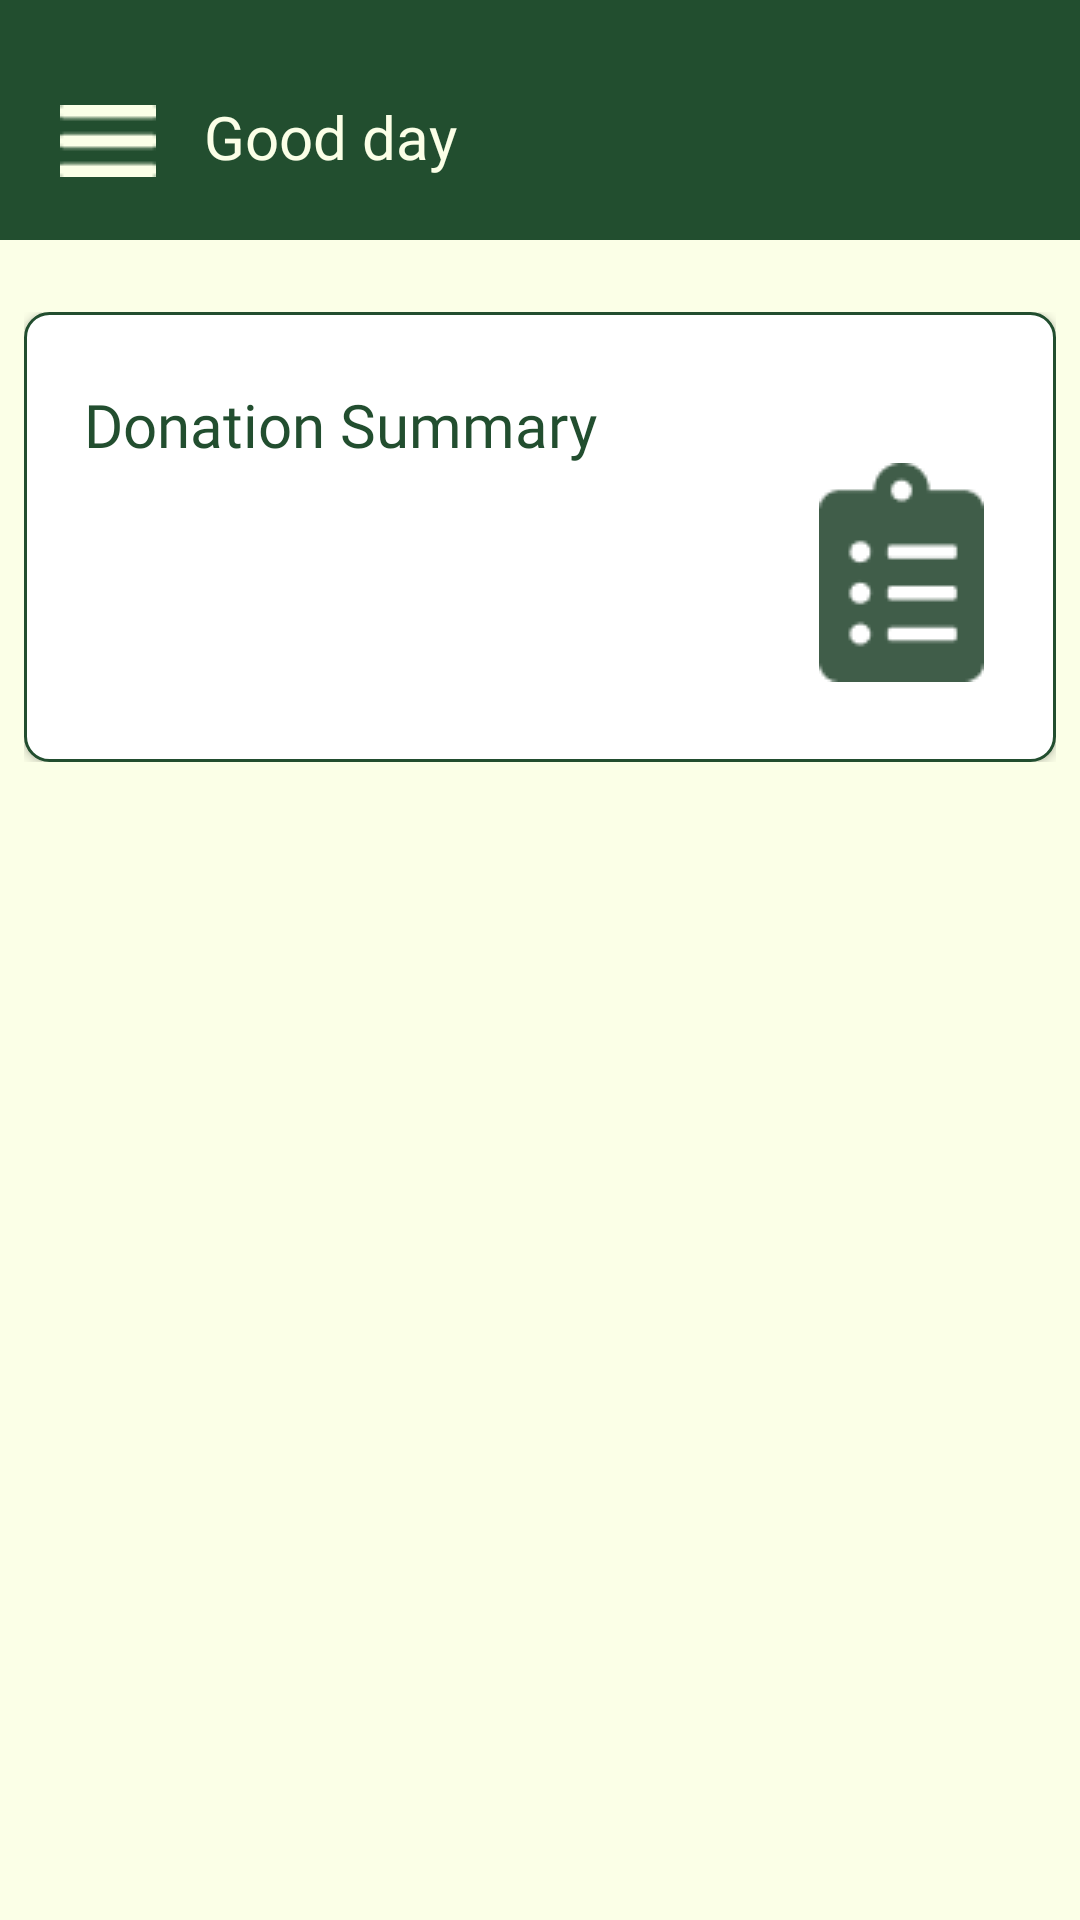

Named icons in this screenshot (1080px x 1920px) and their bounding boxes, [x1, y1, x2, y2]:
hamburger menu: [60, 105, 156, 177]
